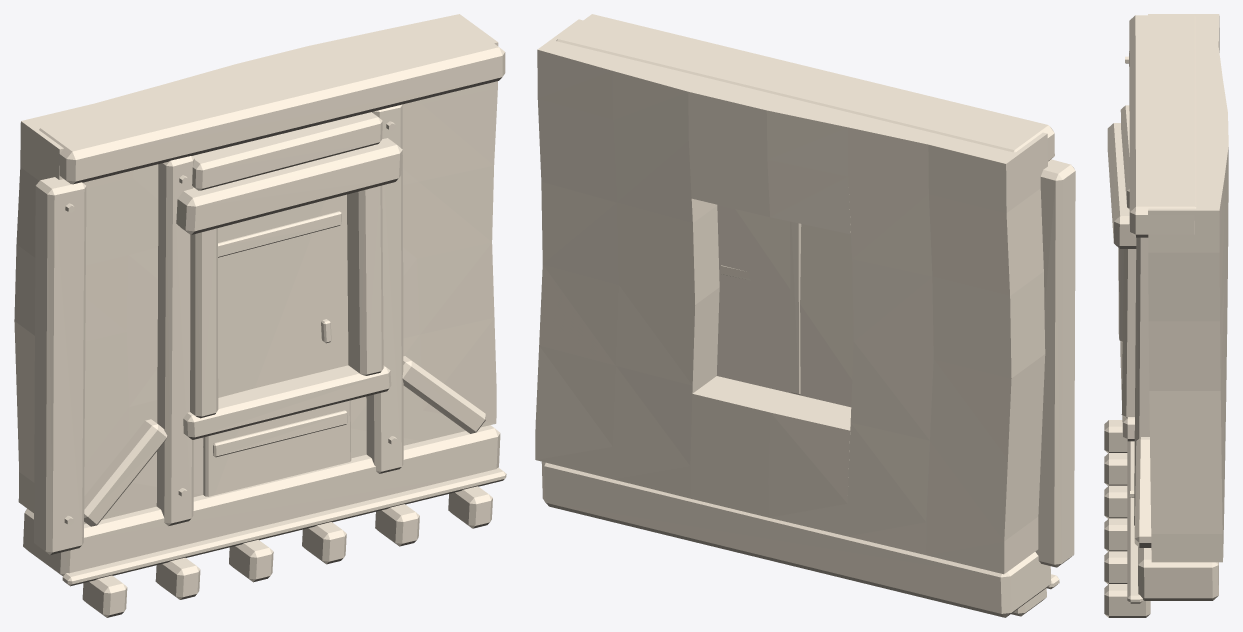
File: SM_VK_Wall_Timber_Door.fbx
The picture shows the model from 3 angles, left to right: view 1: azimuth 30°, elevation 25°; view 2: azimuth 150°, elevation 25°; view 3: azimuth 270°, elevation 25°; orthographic projection. The views are drawn at different scales.
Parts seen in each view (by area): view 1: SM_VK_Wall_Timber_Door.001; view 2: SM_VK_Wall_Timber_Door.001; view 3: SM_VK_Wall_Timber_Door.001.
Boxes of the visible parts, x1,y1,x2,y2 form: SM_VK_Wall_Timber_Door.001: (14, 14, 506, 617); SM_VK_Wall_Timber_Door.001: (535, 14, 1075, 617); SM_VK_Wall_Timber_Door.001: (1104, 14, 1228, 617).
Size of the model in its own units: 3.13 by 3.01 by 0.8024.
